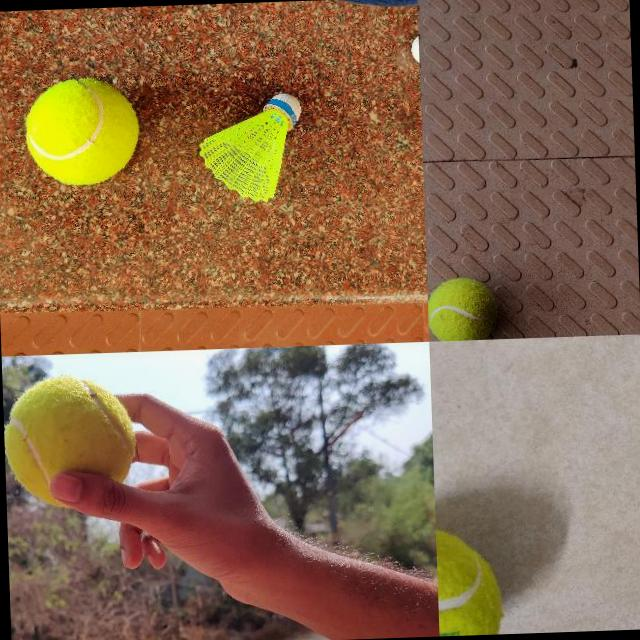tennis-ball: (2, 373, 138, 510), (22, 75, 140, 186), (435, 524, 505, 635), (427, 276, 498, 340)
